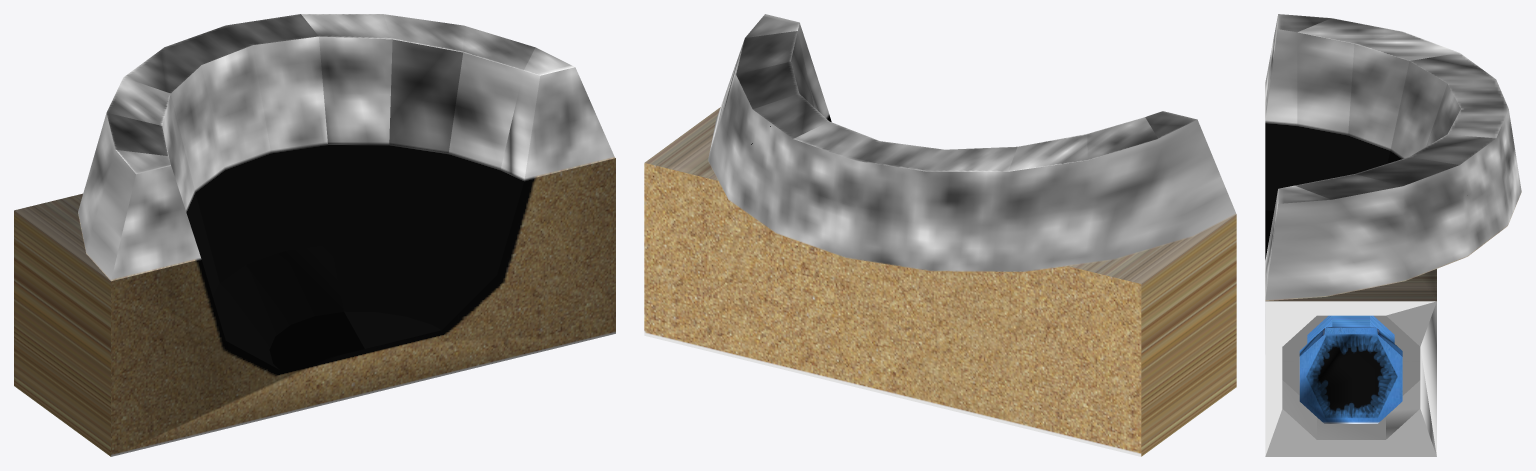
File: building_Waterreservoir_textured.fbx
3 views of the same model, side by side, from view 1: azimuth 30°, elevation 25°; view 2: azimuth 150°, elevation 25°; view 3: azimuth 270°, elevation 25° (orthographic). The views are drawn at different scales.
Visible parts, largest first — view 1: polySurface27_1; view 2: polySurface27_1; view 3: polySurface27_1.
Boxes of the visible parts, x1,y1,x2,y2 form: polySurface27_1: (14,14,615,456); polySurface27_1: (644,14,1236,456); polySurface27_1: (1265,14,1521,456).
Size of the model in its own units: 300 by 153 by 149.
Materials: 2 (2 with a texture image).
